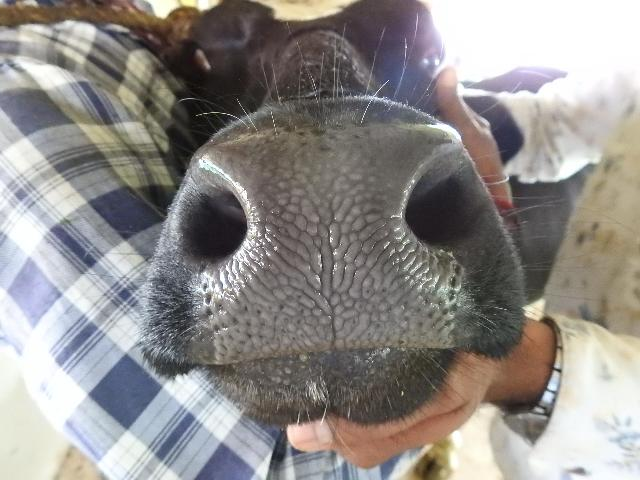Muzzle: (216, 148, 422, 346)
